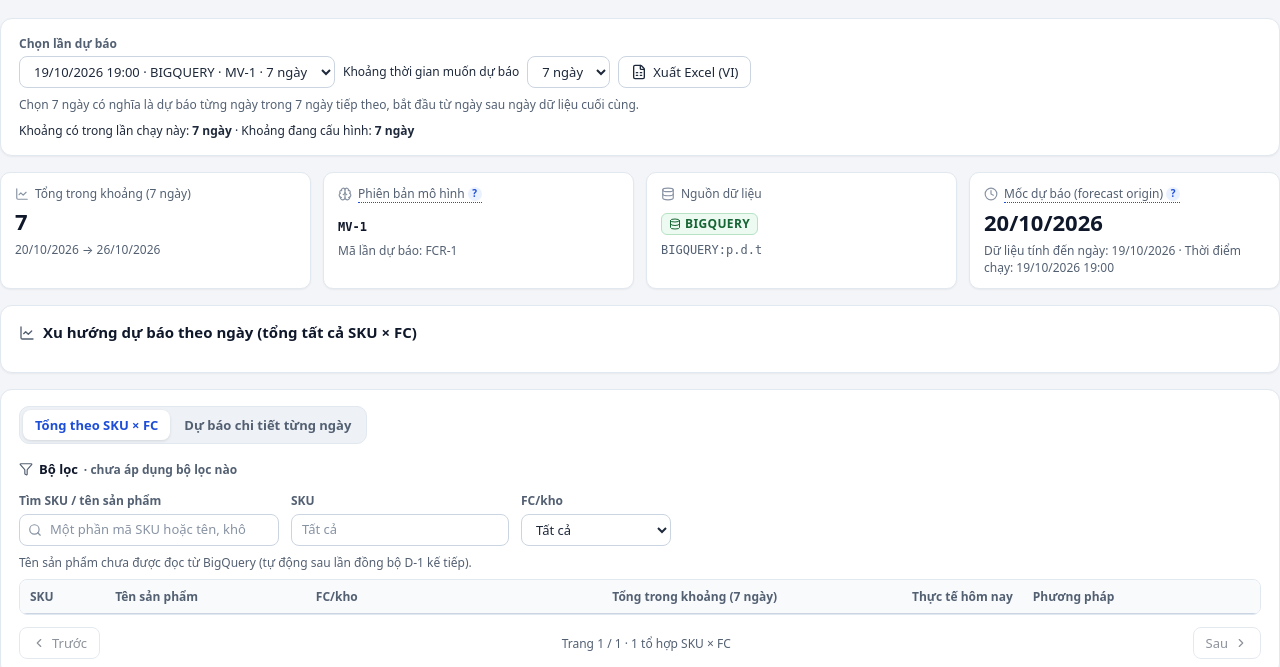
Scenario: v1.2.9 daily forecast table: weekday names › shows Thứ 3 ... Thứ 2 for 20/10 ... 26/10 (the weekday of each date, not the position in the period)
What coordinates should you click on to do the following:
click the tab "Dự báo chi tiết từng ngày"
I would click on:
 (268, 425)
Its box is [172,410,363,440].
(page scrolled)
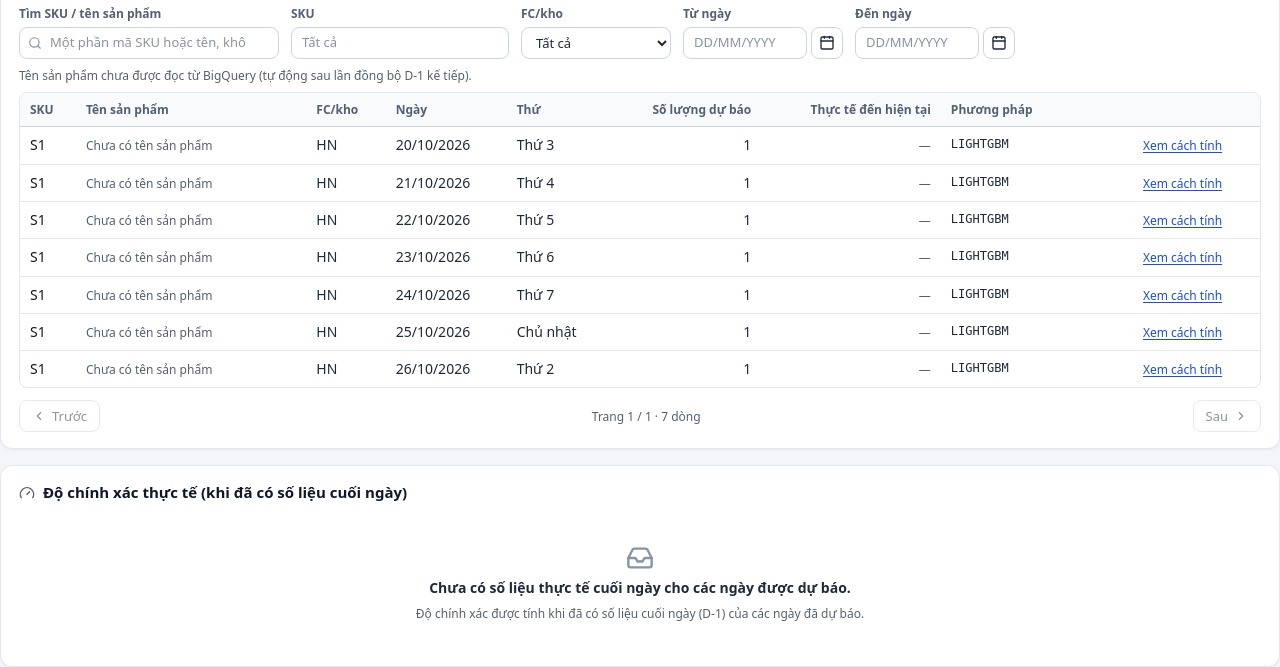
Check: the number of cells with test id "fc-weekday" is 7
